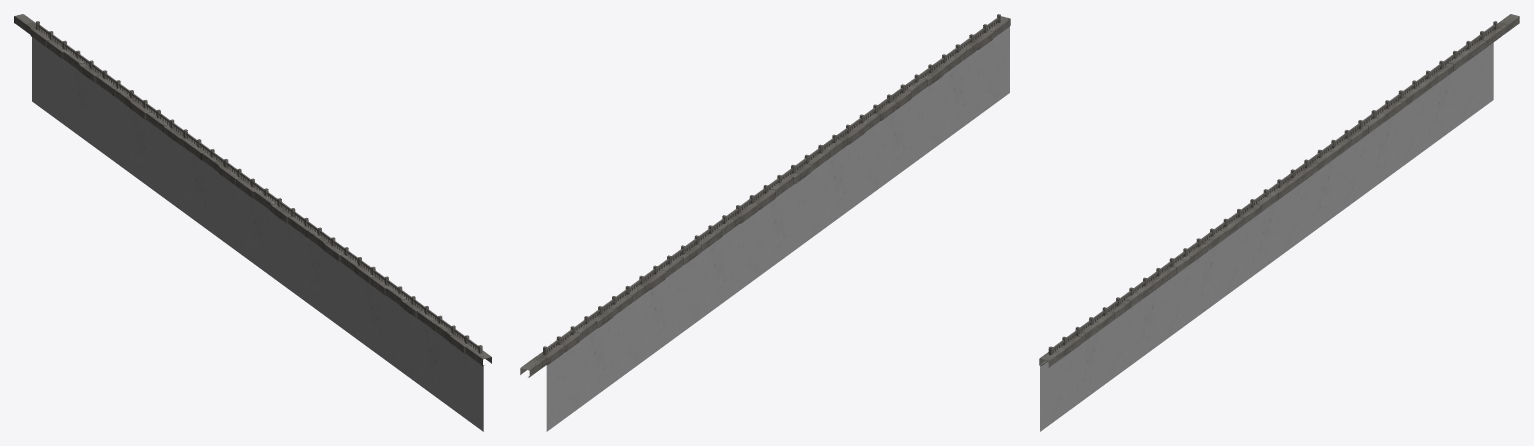
The model's file is SM_ENV_KNVLLG_Wall_03.fbx.
The picture shows the model from 3 angles, left to right: view 1: azimuth 30°, elevation 25°; view 2: azimuth 150°, elevation 25°; view 3: azimuth 330°, elevation 25°; orthographic projection. The views are drawn at different scales.
Parts seen in each view (by area): view 1: SM_ENV_KNVLLG_Wall_03.mo; view 2: SM_ENV_KNVLLG_Wall_03.mo; view 3: SM_ENV_KNVLLG_Wall_03.mo.
Part boxes in pixels (x1,y1,x2,y2): SM_ENV_KNVLLG_Wall_03.mo: (14,14,491,431); SM_ENV_KNVLLG_Wall_03.mo: (520,14,1010,431); SM_ENV_KNVLLG_Wall_03.mo: (1039,14,1519,431).
Size of the model in its own units: 169 by 1239 by 13123.
